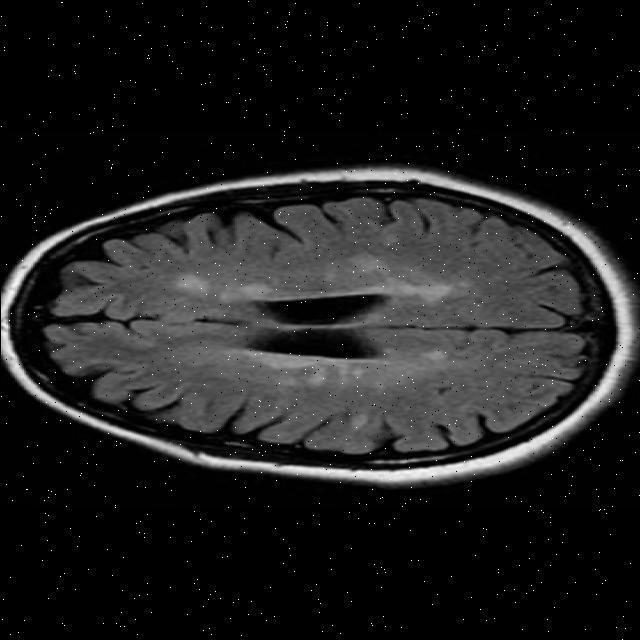No_Tumor: (0, 167, 637, 485)
